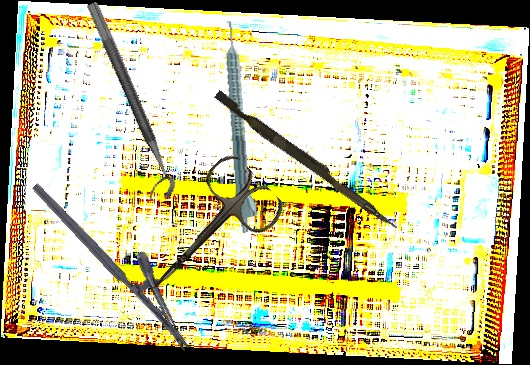Fixation Ring: (70, 0, 180, 205)
Handpiece: (223, 19, 261, 234)
Iris Scissors: (122, 149, 290, 317)
Needle Holder: (30, 161, 213, 353)
Pusher: (210, 90, 404, 231)
